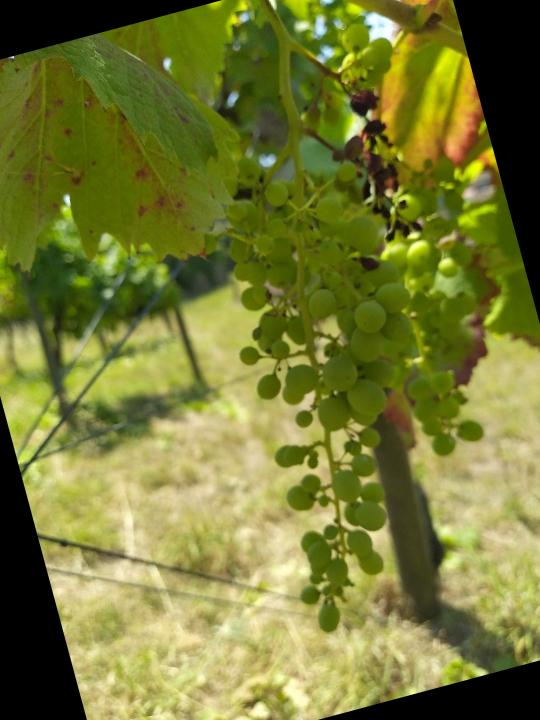grape: (188, 150, 490, 639), (308, 73, 441, 257)
